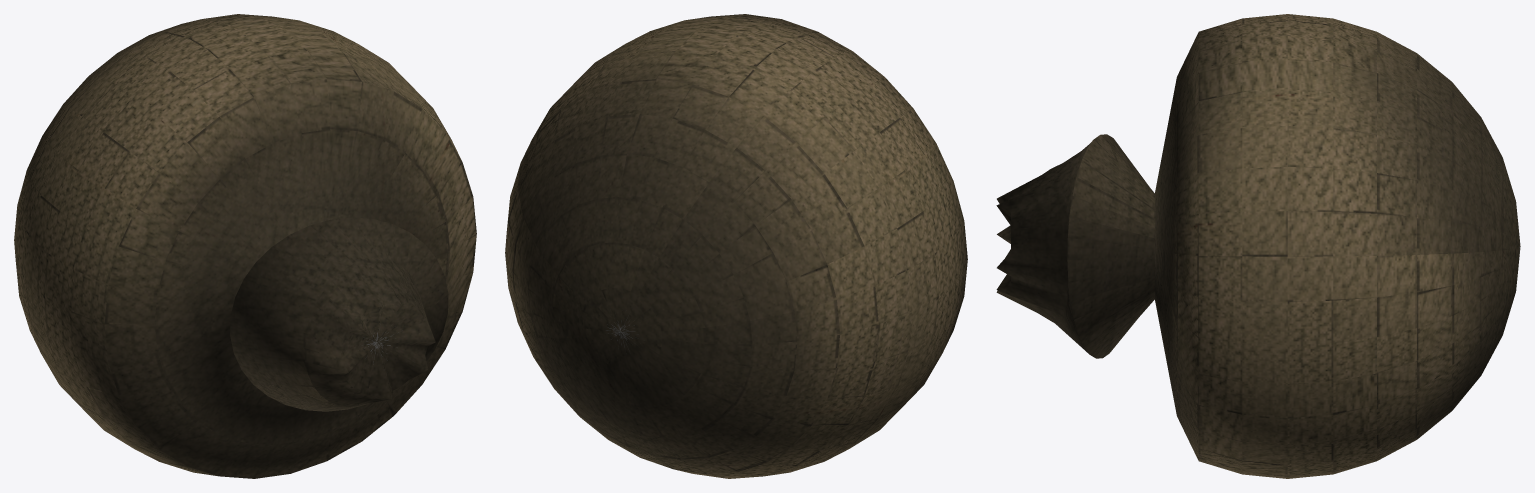
Rendered from Sack.fbx.
The picture shows the model from 3 angles, left to right: view 1: azimuth 30°, elevation 25°; view 2: azimuth 150°, elevation 25°; view 3: azimuth 270°, elevation 25°; orthographic projection.
Parts seen in each view (by area): view 1: Questitem_Sack; view 2: Questitem_Sack; view 3: Questitem_Sack.
Part boxes in pixels (bbox=[...]): Questitem_Sack: bbox=[14, 14, 476, 478]; Questitem_Sack: bbox=[505, 14, 967, 478]; Questitem_Sack: bbox=[996, 14, 1520, 478].
Bounding box in the file's own units: 4.12 × 4.12 × 4.64.
Materials: 1 (1 with a texture image).
